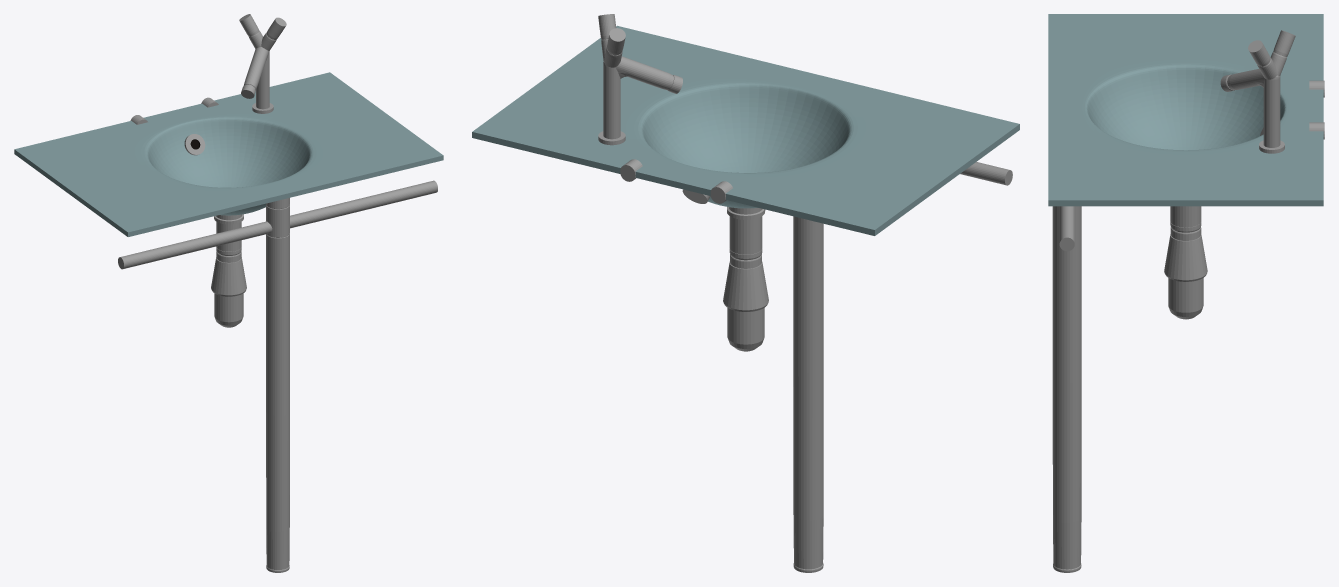
File: bathroom2.obj
The picture shows the model from 3 angles, left to right: view 1: azimuth 30°, elevation 25°; view 2: azimuth 150°, elevation 25°; view 3: azimuth 270°, elevation 25°; orthographic projection. The views are drawn at different scales.
Visible parts, largest first — view 1: wash_Sphere, towelsupport_Cylinder, tube_Cylinder.004, faucet_Cylinder.002; view 2: wash_Sphere, towelsupport_Cylinder, tube_Cylinder.004, faucet_Cylinder.002; view 3: wash_Sphere, towelsupport_Cylinder, tube_Cylinder.004, faucet_Cylinder.002.
Boxes of the visible parts, x1,y1,x2,y2 form: wash_Sphere: (14,72,443,236); towelsupport_Cylinder: (118,180,437,572); tube_Cylinder.004: (211,214,246,327); faucet_Cylinder.002: (239,14,286,109); wash_Sphere: (472,25,1019,235); towelsupport_Cylinder: (793,162,1012,572); tube_Cylinder.004: (723,207,768,351); faucet_Cylinder.002: (598,14,682,139); wash_Sphere: (1048,14,1323,206); towelsupport_Cylinder: (1052,206,1081,572); tube_Cylinder.004: (1164,206,1207,319); faucet_Cylinder.002: (1220,30,1295,147).
Bounding box in the file's own units: 0.6632 × 0.9486 × 0.4153.
